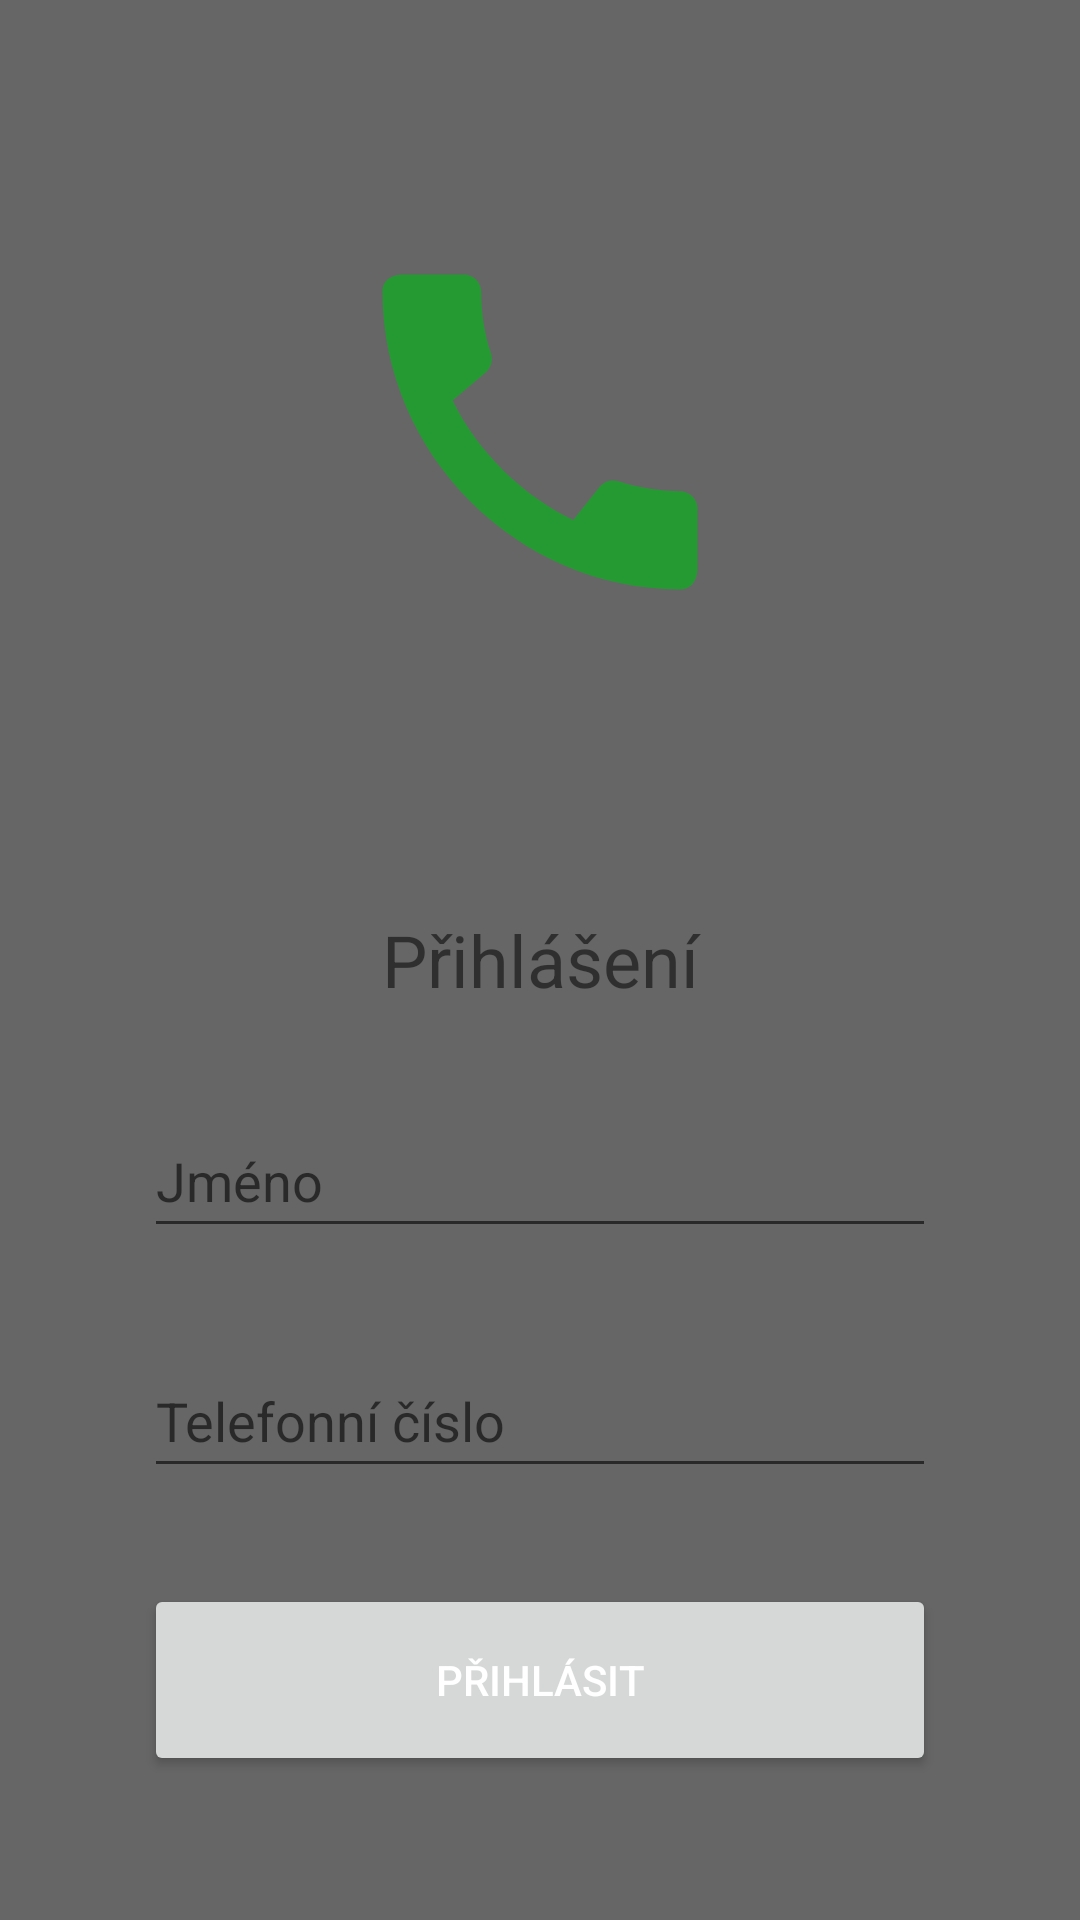

Icons on this 1080×1920 Android screen, each with the point to tap as (x,y):
call answered: (540,432)
